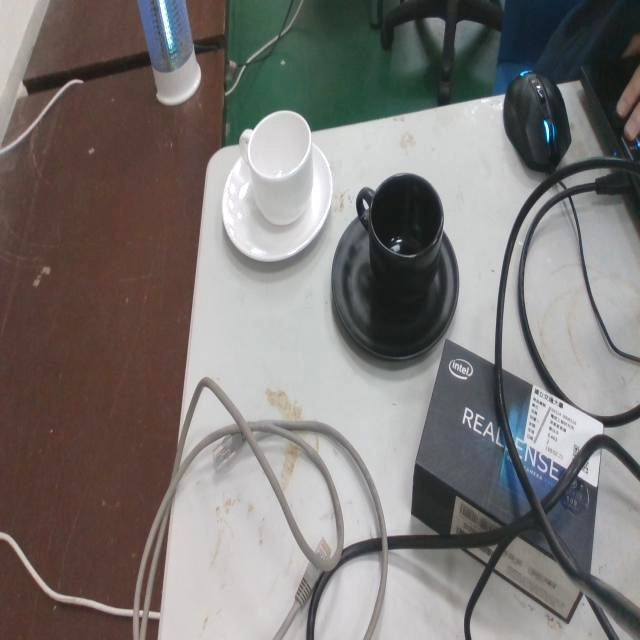black: (330, 170, 460, 368)
white: (220, 107, 335, 267)
